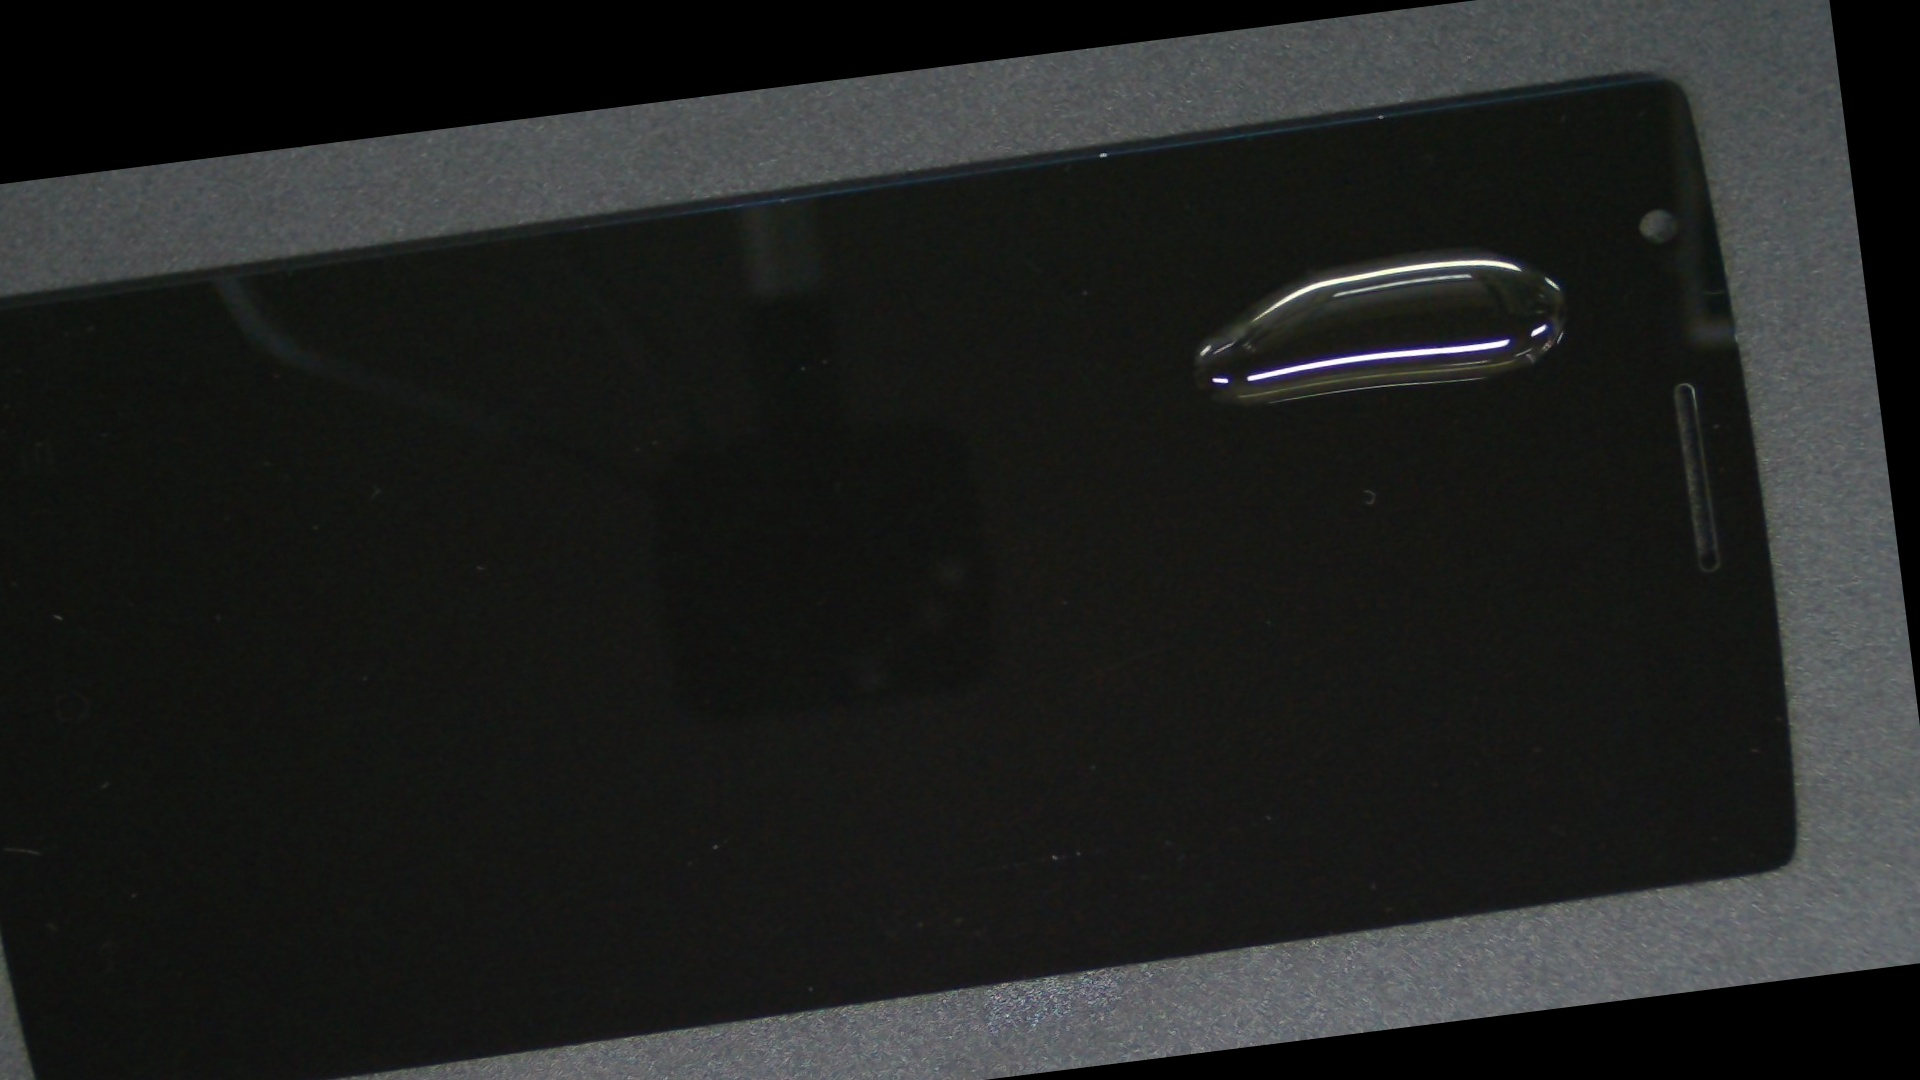oil: (615, 76, 1869, 469)
